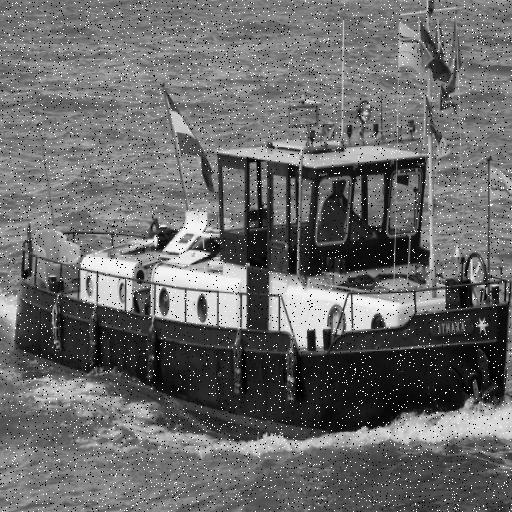tugboat: (6, 1, 512, 462)
